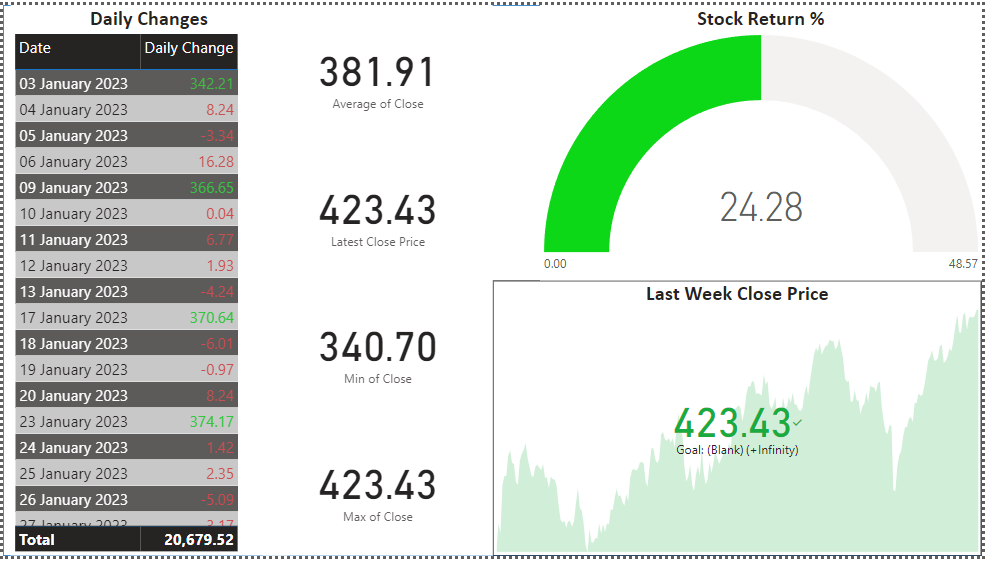

The page's visual inventory and layout, read from the dashboard file:
{"tool":"powerbi","page":{"name":"Totals","canvas":[1280,720],"ordinal":1},"visuals":[{"type":"shape","box":[0,0,1280,720],"z":0},{"type":"tableEx","title":"Daily Changes","fields":{"Values":["Stock_data.Date.Variation.Date Hierarchy.Year","Sum(Stock_data.Daily Change)"]},"box":[10.2,0,361.5,719.6],"z":1000},{"type":"kpi","title":"Last Week Close Price","fields":{"TrendLine":["Stock_data.Date"],"Indicator":["Stock_data.Latest Close Price"],"Goal":["Stock_data.Previous Week Close"]},"box":[640,360,640,360],"z":2000},{"type":"gauge","fields":{"Y":["Stock_data.Stock Return %"]},"box":[702.5,0,577.5,360],"z":3000},{"type":"card","fields":{"Values":["Avg(Stock_data.Close)"]},"box":[340,0,300,180],"z":4000},{"type":"card","fields":{"Values":["Min(Stock_data.Close)"]},"box":[340,360,300,180],"z":5000},{"type":"card","fields":{"Values":["Max(Stock_data.Close)"]},"box":[340,540,300,180],"z":6000},{"type":"card","fields":{"Values":["Stock_data.Latest Close Price"]},"box":[340,180,300,180],"z":7000}]}

Visuals, with their boxes in screenshot pixels (x1, y1, x2, y2), scaled from the page's 1280x720 canvas onto the 985x561 screenshot:
shape: bbox=[0, 0, 984, 560]
"Daily Changes" tableEx: bbox=[8, 0, 286, 560]
"Last Week Close Price" kpi: bbox=[492, 280, 984, 560]
gauge - Stock_data.Stock Return %: bbox=[541, 0, 984, 280]
card - Avg(Stock_data.Close): bbox=[262, 0, 492, 140]
card - Min(Stock_data.Close): bbox=[262, 280, 492, 421]
card - Max(Stock_data.Close): bbox=[262, 421, 492, 560]
card - Stock_data.Latest Close Price: bbox=[262, 140, 492, 280]
